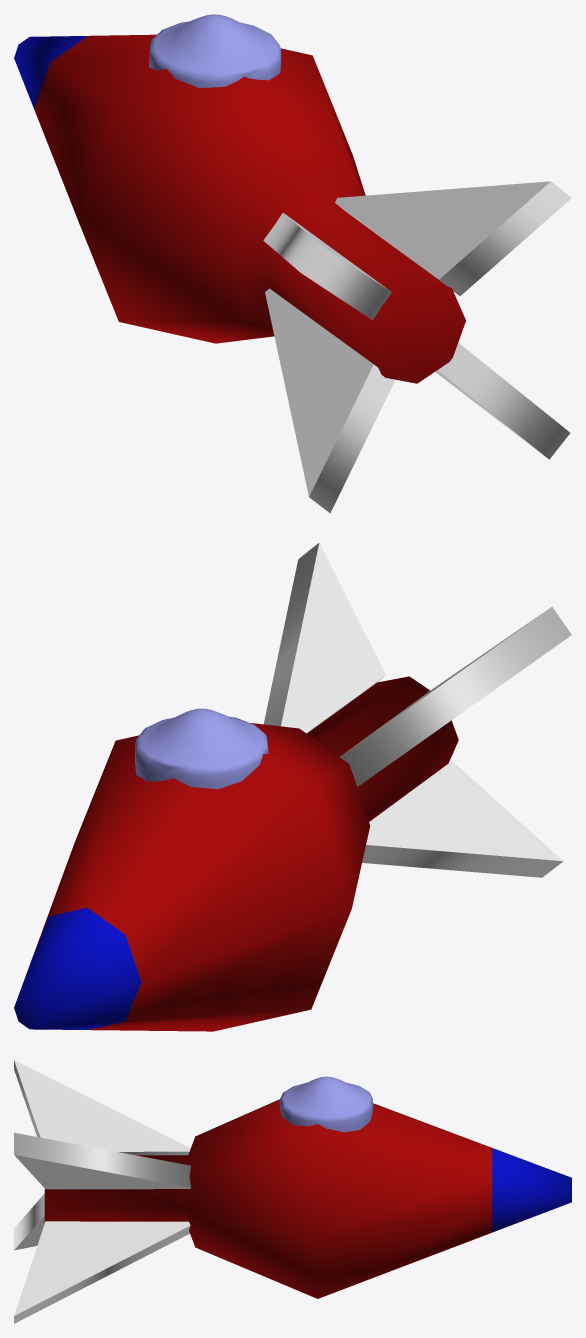
Rendered from Ship1.FBX.
The picture shows the model from 3 angles, top to bottom: view 1: azimuth 30°, elevation 25°; view 2: azimuth 150°, elevation 25°; view 3: azimuth 270°, elevation 25°; orthographic projection. The views are drawn at different scales.
Visible parts, largest first — view 1: Cylinder016, Cylinder017, Cylinder019, Cylinder020, Cylinder018; view 2: Cylinder016, Cylinder019, Cylinder017, Cylinder018; view 3: Cylinder016, Cylinder020, Cylinder018, Cylinder017, Cylinder019.
Part boxes in pixels (x1=…): Cylinder016: x1=14, y1=14, x2=465, y2=383; Cylinder017: x1=335, y1=181, x2=571, y2=295; Cylinder019: x1=265, y1=288, x2=394, y2=513; Cylinder020: x1=435, y1=343, x2=569, y2=459; Cylinder018: x1=263, y1=213, x2=391, y2=319; Cylinder016: x1=14, y1=676, x2=458, y2=1031; Cylinder019: x1=362, y1=761, x2=563, y2=877; Cylinder017: x1=263, y1=542, x2=385, y2=733; Cylinder018: x1=340, y1=607, x2=571, y2=786; Cylinder016: x1=44, y1=1076, x2=571, y2=1298; Cylinder020: x1=14, y1=1221, x2=190, y2=1323; Cylinder018: x1=14, y1=1060, x2=190, y2=1155; Cylinder017: x1=14, y1=1132, x2=190, y2=1189; Cylinder019: x1=14, y1=1194, x2=44, y2=1250.
Bounding box in the file's own units: 37.48 × 42.02 × 95.71.
